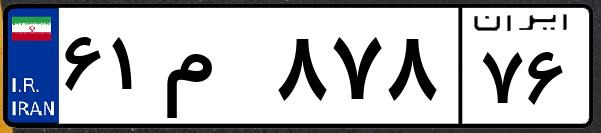1: (110, 28, 158, 98)
6: (57, 26, 110, 100), (525, 38, 570, 115)
7: (330, 28, 385, 110), (475, 38, 525, 113)
8: (270, 28, 330, 110), (385, 28, 445, 110)
م: (158, 20, 270, 120)
